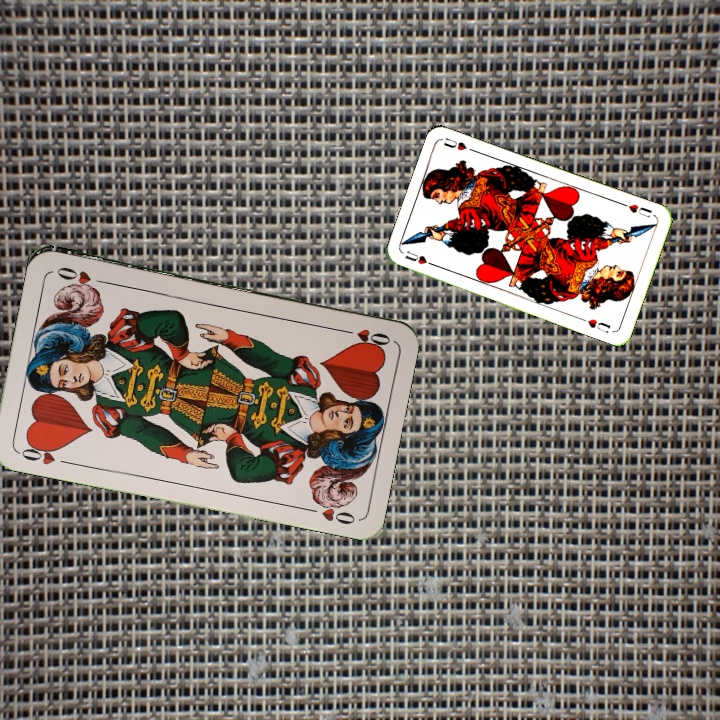HO: (15, 437, 73, 468), (335, 324, 394, 347)
HU: (401, 247, 439, 269), (618, 199, 655, 220)
